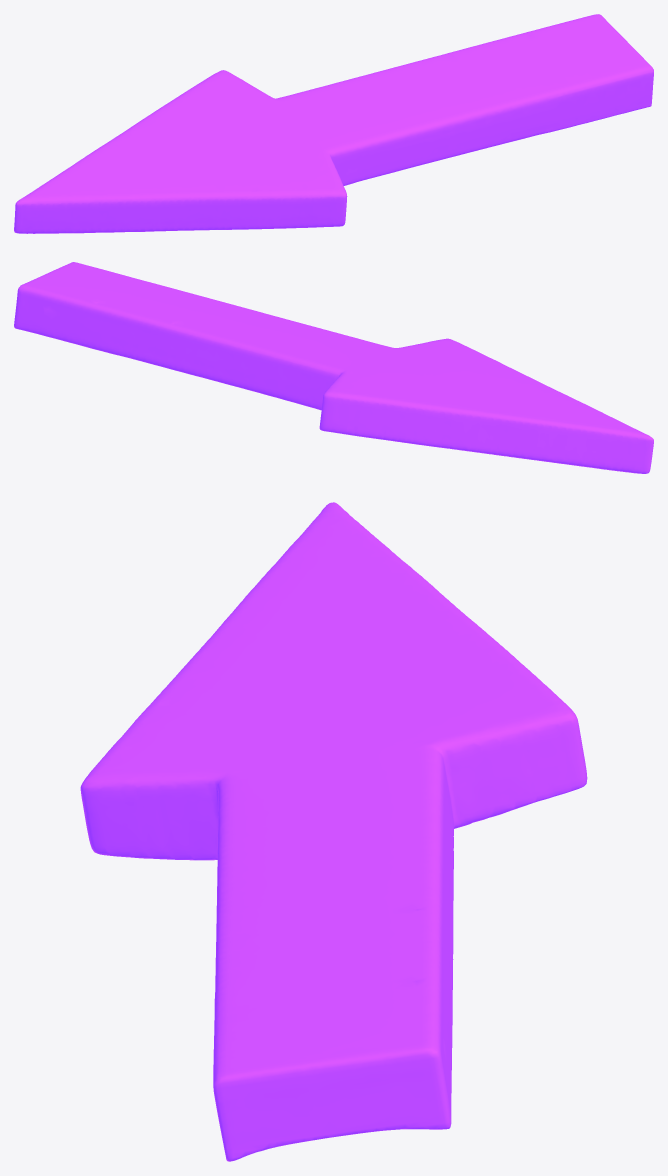
The model's file is modelmagenta.glb.
3 views of the same model, one above another, from view 1: azimuth 30°, elevation 25°; view 2: azimuth 150°, elevation 25°; view 3: azimuth 270°, elevation 25° (orthographic). The views are drawn at different scales.
Parts seen in each view (by area): view 1: Mesh_0.001; view 2: Mesh_0.001; view 3: Mesh_0.001.
Part boxes in pixels (x1,y1,x2,y2): Mesh_0.001: (14, 14, 653, 233); Mesh_0.001: (14, 262, 653, 473); Mesh_0.001: (80, 502, 587, 1161).
Bounding box in the file's own units: 2 × 0.2202 × 0.7194.
